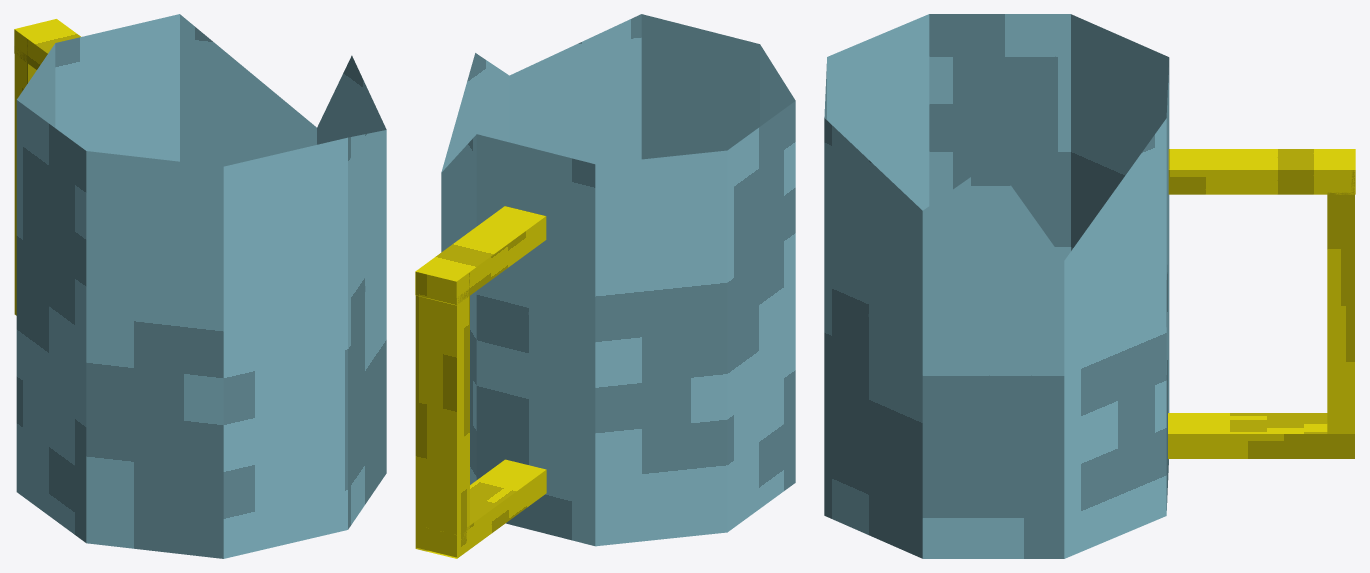
File: Cup.fbx
3 renders of one model, left to right at view 1: azimuth 30°, elevation 25°; view 2: azimuth 150°, elevation 25°; view 3: azimuth 270°, elevation 25°, orthographic. The views are drawn at different scales.
Visible parts, largest first — view 1: Cup; view 2: Cup; view 3: Cup.
Boxes of the visible parts, x1,y1,x2,y2 form: Cup: (14, 14, 386, 558); Cup: (415, 14, 795, 558); Cup: (824, 14, 1355, 558).
Bounding box in the file's own units: 0.9795 × 1.23 × 1.49.
